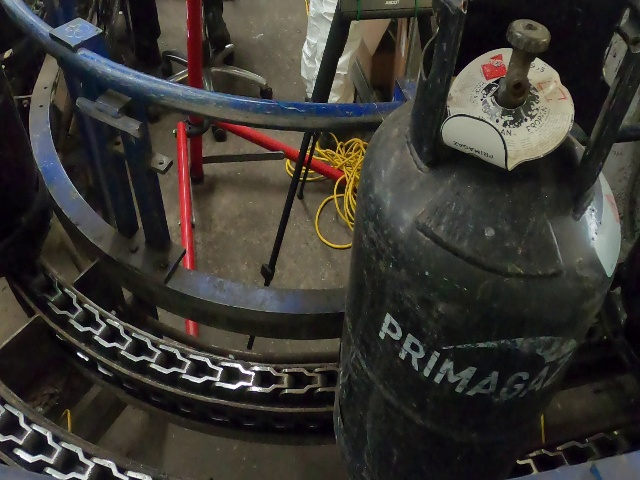gas_bottle: (16, 11, 640, 480)
